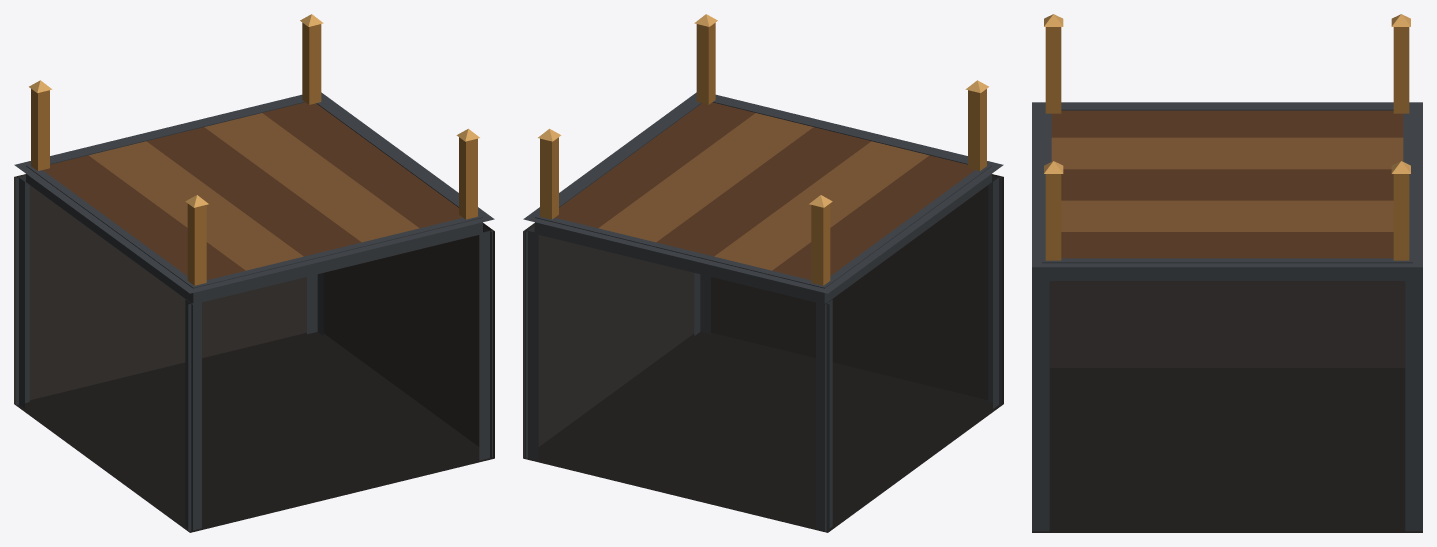
The model's file is SM_ColLift.fbx.
3 views of the same model, side by side, from view 1: azimuth 30°, elevation 25°; view 2: azimuth 150°, elevation 25°; view 3: azimuth 270°, elevation 25° (orthographic). The views are drawn at different scales.
Parts seen in each view (by area): view 1: SM_ColLift_Frame, Platform; view 2: SM_ColLift_Frame, Platform; view 3: SM_ColLift_Frame, Platform.
Boxes of the visible parts, x1,y1,x2,y2 form: SM_ColLift_Frame: (14,92,494,532); Platform: (26,14,482,303); SM_ColLift_Frame: (523,92,1003,532); Platform: (535,14,991,303); SM_ColLift_Frame: (1032,102,1422,532); Platform: (1042,14,1412,280).
Bounding box in the file's own units: 4 × 4 × 4.1.
